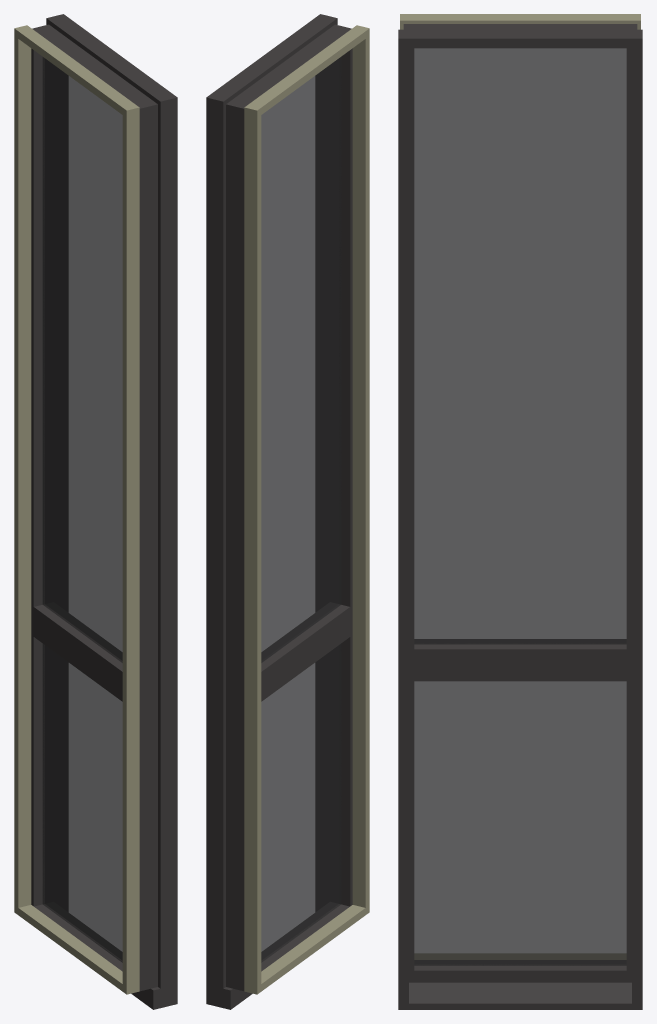
The model's file is window6.FBX.
The picture shows the model from 3 angles, left to right: view 1: azimuth 30°, elevation 25°; view 2: azimuth 150°, elevation 25°; view 3: azimuth 270°, elevation 25°; orthographic projection. The views are drawn at different scales.
Visible parts, largest first — view 1: 64:3:4; view 2: 64:3:4; view 3: 64:3:4.
Boxes of the visible parts, x1,y1,x2,y2 form: 64:3:4: (14,14,177,1009); 64:3:4: (206,14,369,1009); 64:3:4: (398,14,642,1009).
Size of the model in its own units: 6.89 by 119 by 27.17.
